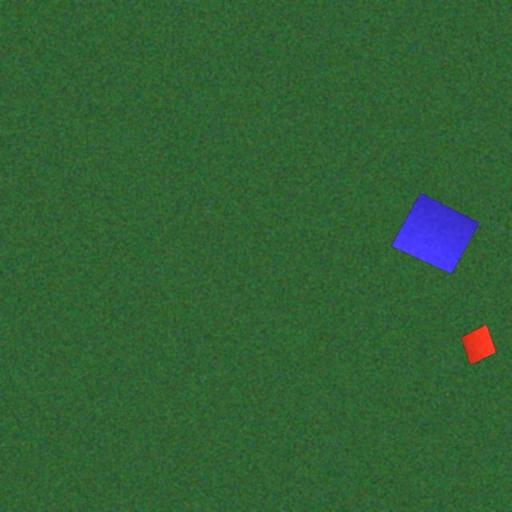BLUE_SQUARE: (390, 192, 480, 275)
RED_SQUARE: (460, 324, 497, 366)
